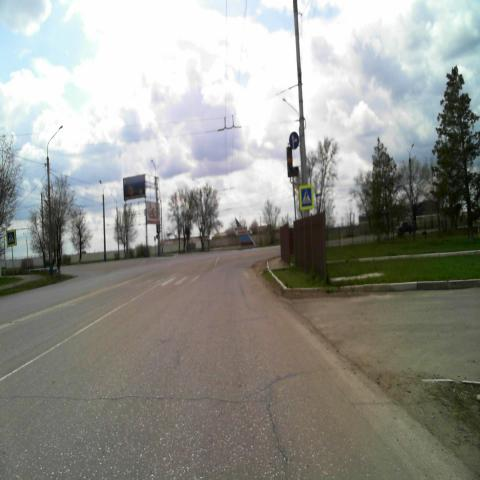4_1_4: (289, 132, 299, 150)
5_19_1: (299, 184, 314, 208), (7, 229, 16, 247)
